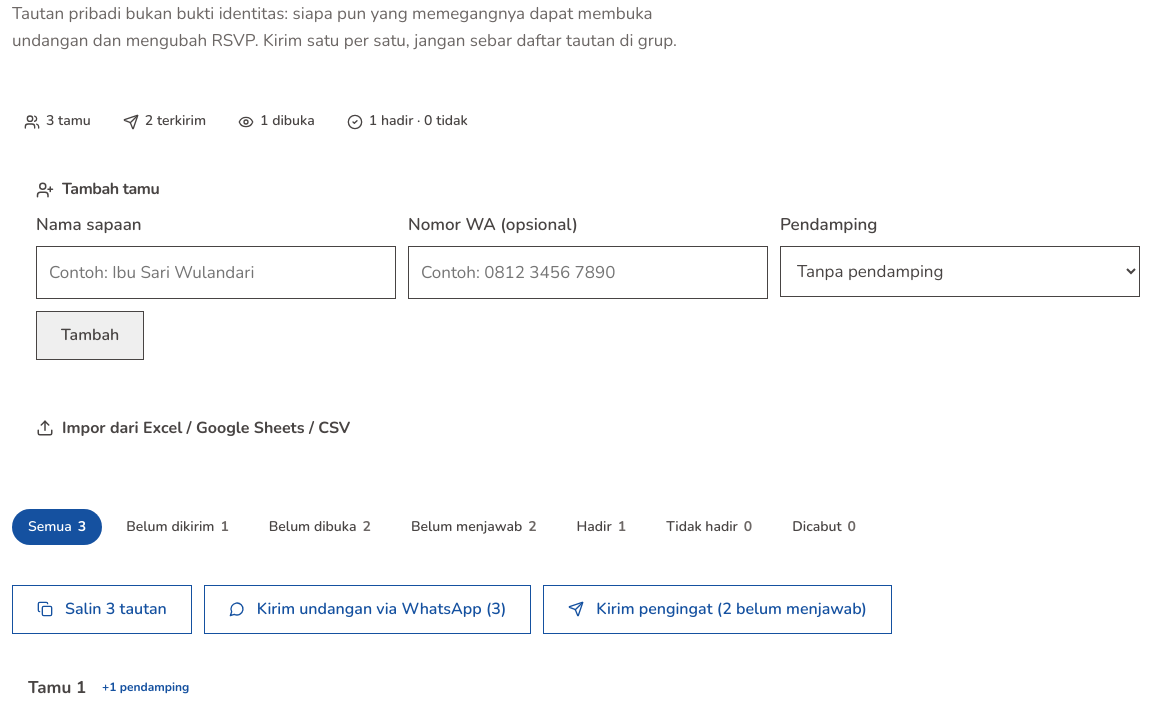
Test: counts and filters guests by sending, opening, and answer
Expected: the button "Belum dikirim 1" is shown, [110,509,245,545]
What coordinates should you click on to do the following:
click the button "Belum menjawab 2"
I would click on:
 (474, 527)
Its box is [395,509,553,545].
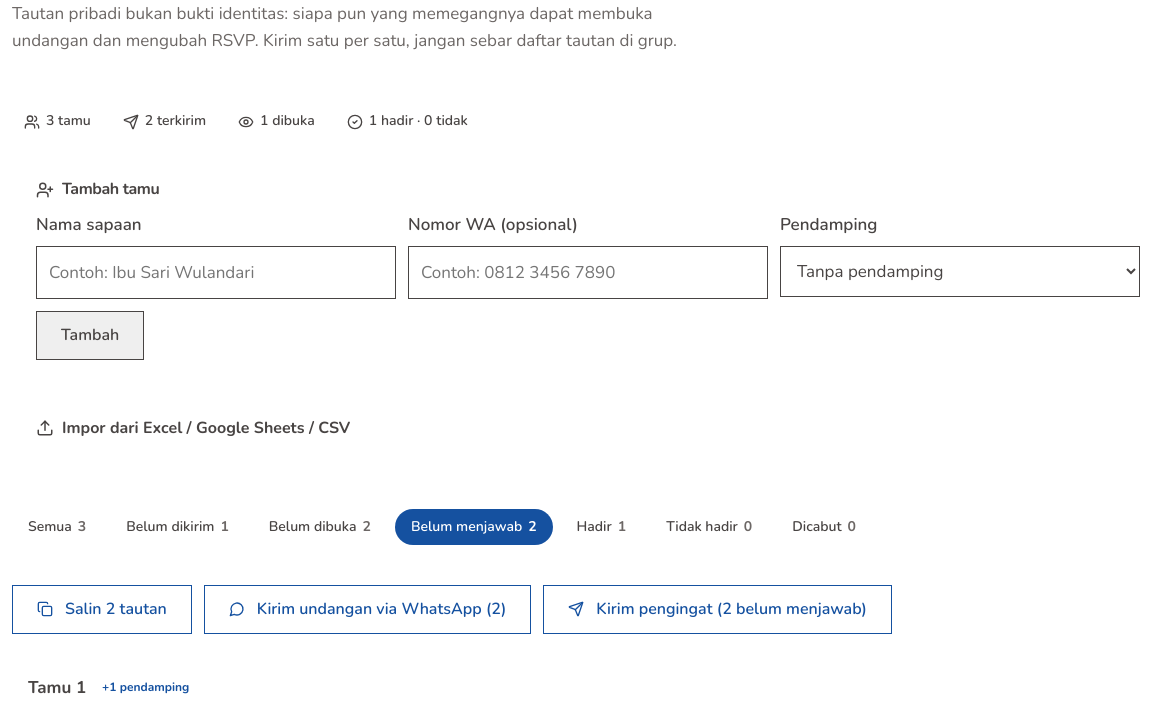
What coordinates should you click on to do the following:
click the button "Hadir 1"
I would click on:
 (601, 527)
Its box is [561,509,642,545].
(page scrolled)
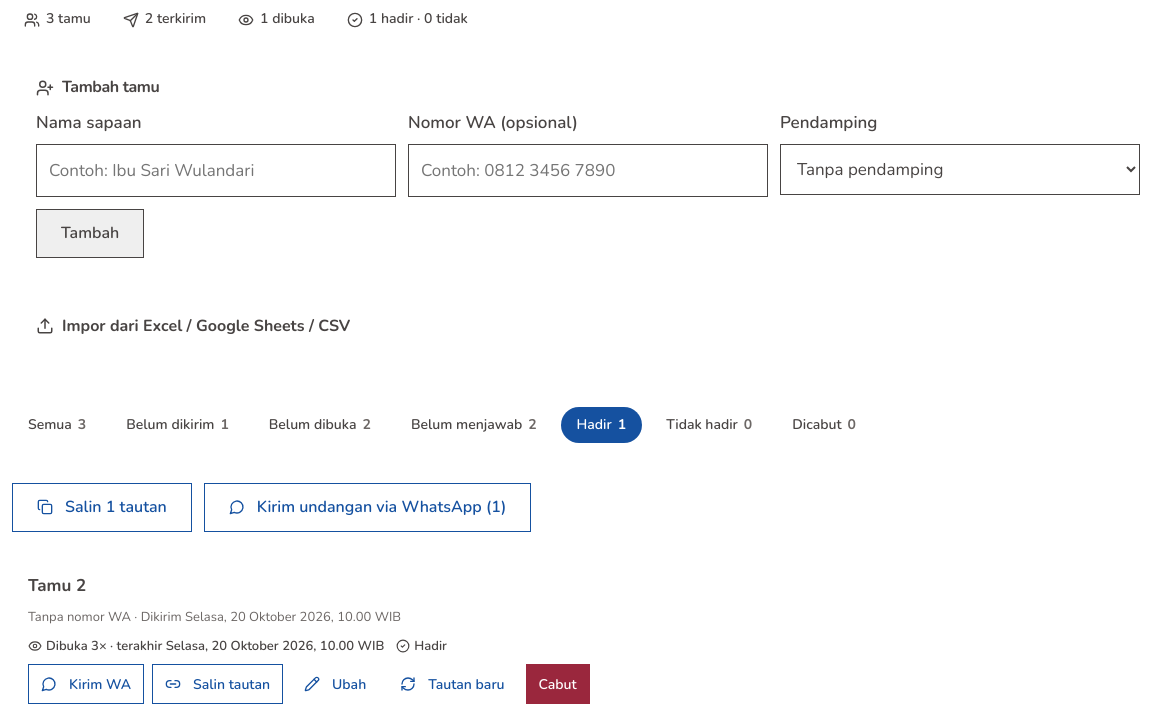
Result: the text "Dibuka 3×" is shown at [28,636,384,656]
